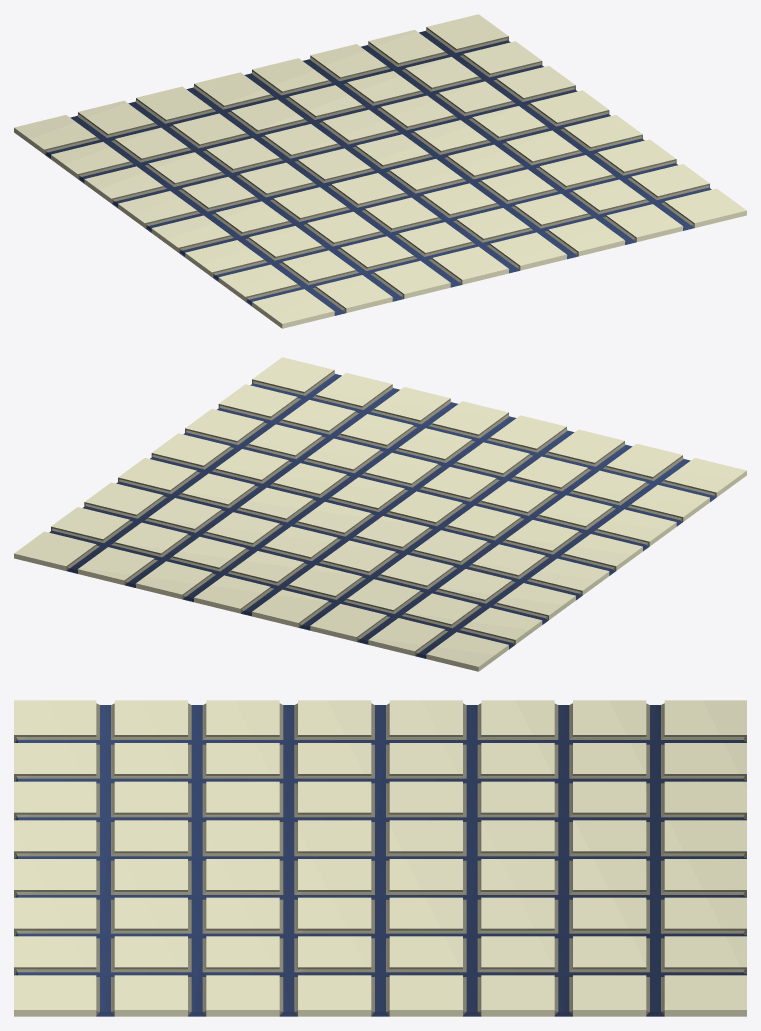
Rendered from SM_floorTileL.fbx.
The picture shows the model from 3 angles, top to bottom: view 1: azimuth 30°, elevation 25°; view 2: azimuth 150°, elevation 25°; view 3: azimuth 270°, elevation 25°; orthographic projection. The views are drawn at different scales.
Parts seen in each view (by area): view 1: SM_floor_tileL; view 2: SM_floor_tileL; view 3: SM_floor_tileL.
Part boxes in pixels (x1,y1,x2,y2): SM_floor_tileL: (14, 14, 746, 328); SM_floor_tileL: (14, 357, 746, 671); SM_floor_tileL: (14, 700, 746, 1016).
Bounding box in the file's own units: 1000 × 10 × 1000.
